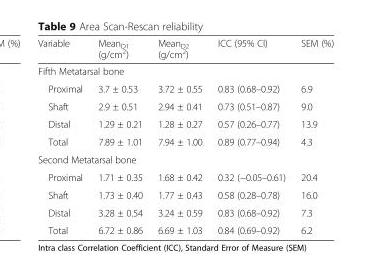table: (37, 37, 333, 235)
table column: (209, 37, 292, 235), (89, 37, 149, 235), (149, 37, 209, 235), (37, 37, 89, 235), (292, 37, 333, 235)
table column header: (37, 37, 333, 62)
table projected row header: (37, 62, 333, 79), (37, 150, 333, 167)
table row: (37, 37, 333, 62), (37, 79, 333, 97), (37, 114, 333, 132), (37, 132, 333, 150), (37, 167, 333, 185), (37, 185, 333, 203), (37, 203, 333, 221), (37, 62, 333, 79), (37, 97, 333, 114), (37, 150, 333, 167), (37, 221, 333, 235)
